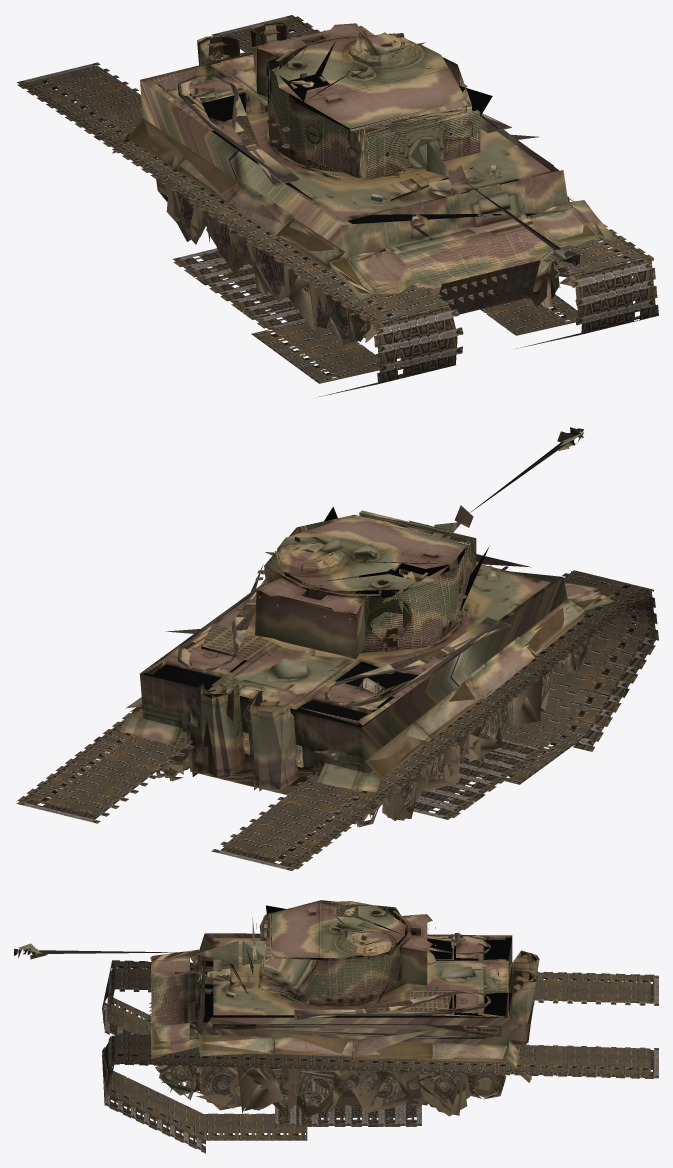
Rendered from tiger_i_enkel.glb.
3 renders of one model, top to bottom at view 1: azimuth 30°, elevation 25°; view 2: azimuth 150°, elevation 25°; view 3: azimuth 270°, elevation 25°, orthographic. The views are drawn at different scales.
Parts seen in each view (by area): view 1: hull, track1, turret, track2, mount, trk, hull-rear, cable1-optionb, interior.002, storage-optiona, wheel22, wheel18 (+20 smaller); view 2: track1, hull, turret, hull-rear, track2, storage-optiona, line02, excover2-optionb, cable1-optionb, excover1-optiona, excover1-optionb, skirt12-optionc (+20 smaller); view 3: track2, hull, turret, track1, hull-rear, cable3-optionb, storage-optiona, line02, wheel23, wheel27, wheel19, wheel31 (+29 smaller).
Boxes of the visible parts, x1,y1,x2,y2 form: hull: (140,25,572,307); track1: (17,62,463,396); turret: (266,33,472,178); track2: (211,15,658,348); mount: (363,110,480,179); trk: (439,260,540,314); hull-rear: (143,27,371,130); cable1-optionb: (178,75,298,184); interior.002: (267,40,492,223); storage-optiona: (252,23,365,97); wheel22: (246,234,290,302); wheel18: (288,260,333,332); track1: (211,570,658,870); hull: (140,554,572,795); turret: (264,514,471,655); hull-rear: (143,623,430,767); track2: (17,590,393,823); storage-optiona: (255,577,365,659); line02: (140,644,423,727); excover2-optionb: (201,684,245,776); cable1-optionb: (324,619,511,706); excover1-optiona: (250,690,296,789); excover1-optionb: (251,690,299,787); skirt12-optionc: (114,710,182,765); track2: (102,1033,658,1153); hull: (151,933,512,1083); turret: (258,900,411,1006); track1: (102,960,658,1034); hull-rear: (408,933,510,1017); cable3-optionb: (211,1024,501,1038); storage-optiona: (400,914,436,985); line02: (411,937,511,1017); wheel23: (293,1069,345,1116); wheel27: (352,1070,409,1113); wheel19: (228,1059,283,1112); wheel31: (418,1072,470,1116).
Size of the model in its own units: 4.13 by 3.38 by 10.69.
9 materials, 8 textured.
